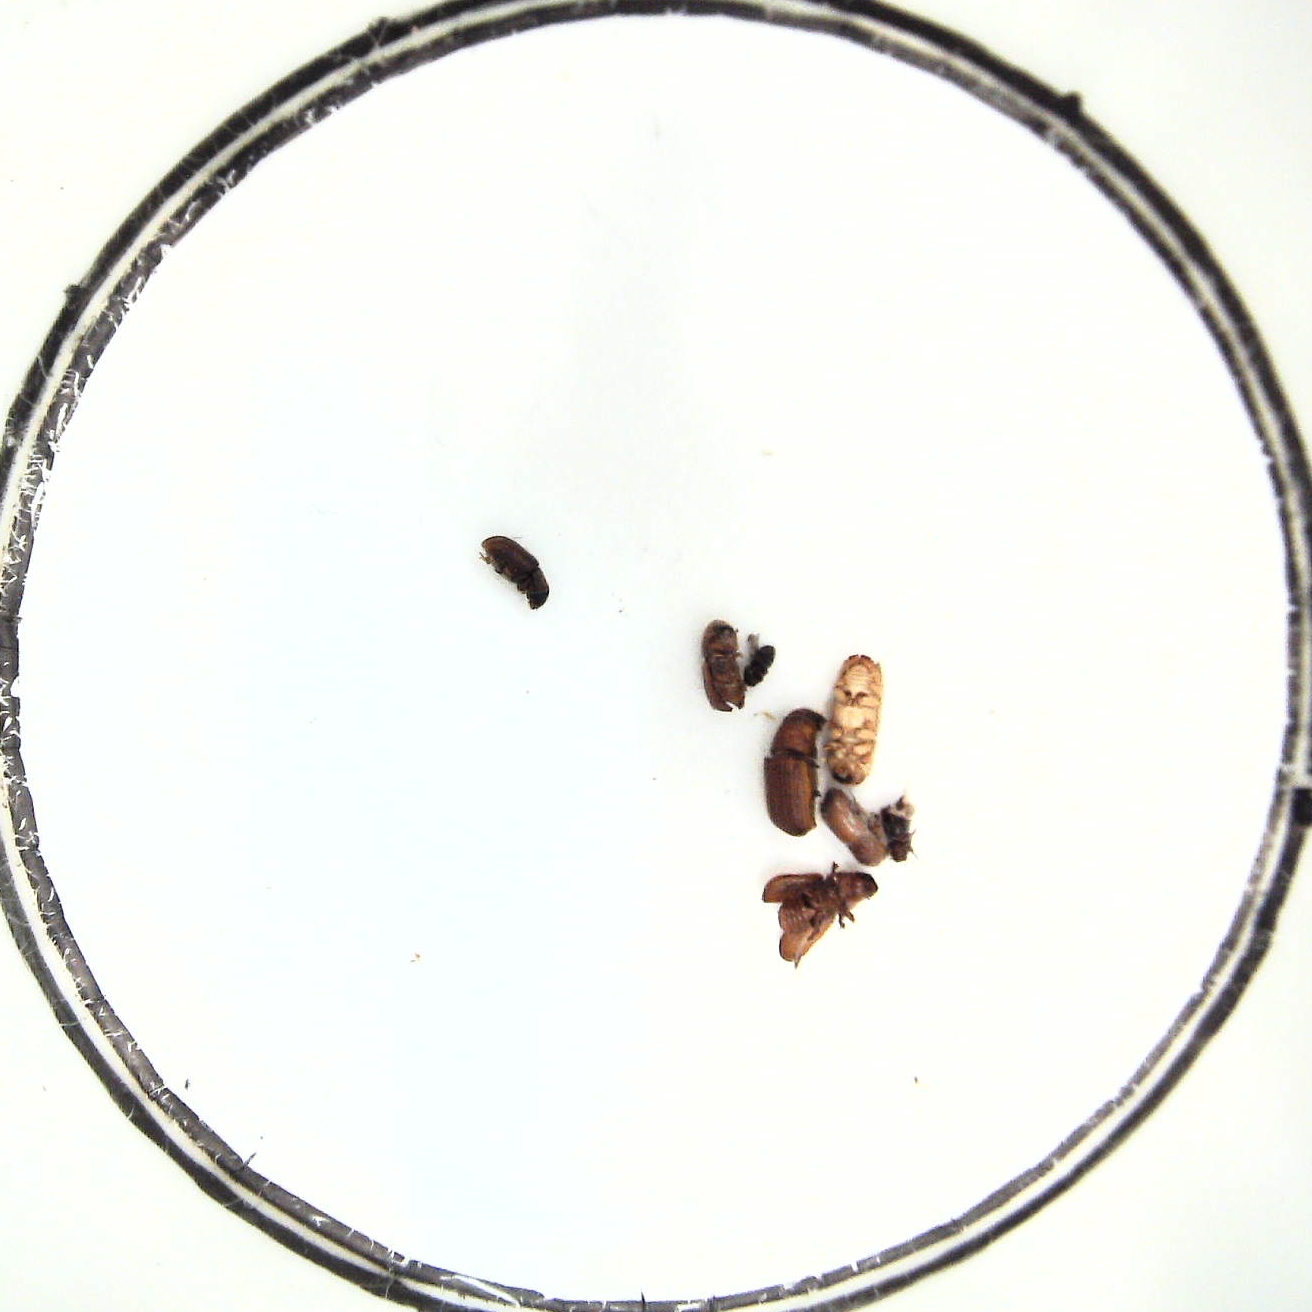Boerner: (824, 648, 887, 786)
Leconte: (762, 866, 878, 968), (762, 704, 825, 835)
Linnaeus: (821, 786, 887, 866), (700, 619, 746, 715)
acuminatus: (885, 797, 922, 863)
armandi: (482, 527, 551, 610)
coleoptera: (744, 627, 779, 691)
